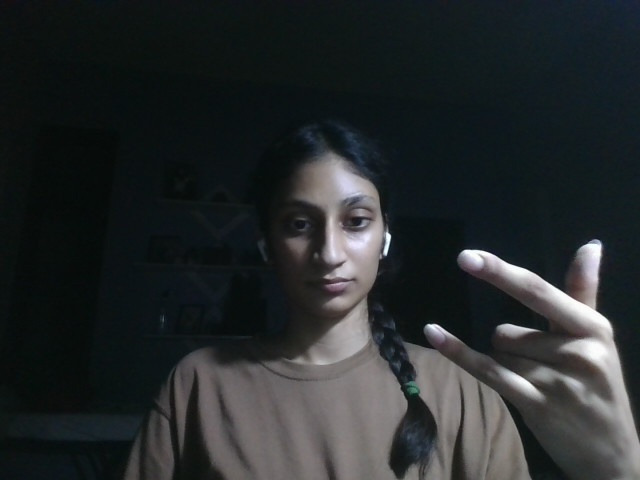i love you: (425, 236, 640, 475)
